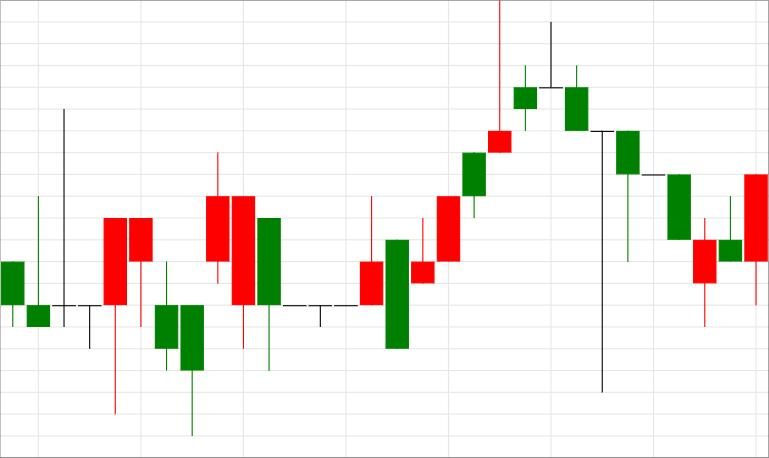hammer_rise: (539, 21, 640, 392)
hanging_man_fall: (27, 111, 153, 415)
shooting_star_fall: (411, 0, 511, 284)
